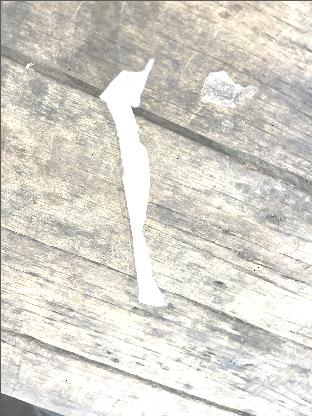Others: (96, 61, 164, 314), (196, 63, 254, 111)
